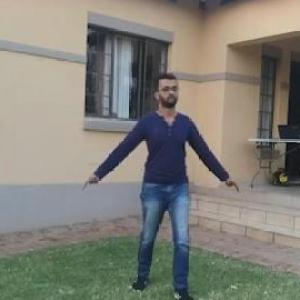land: (89, 80, 230, 287)
